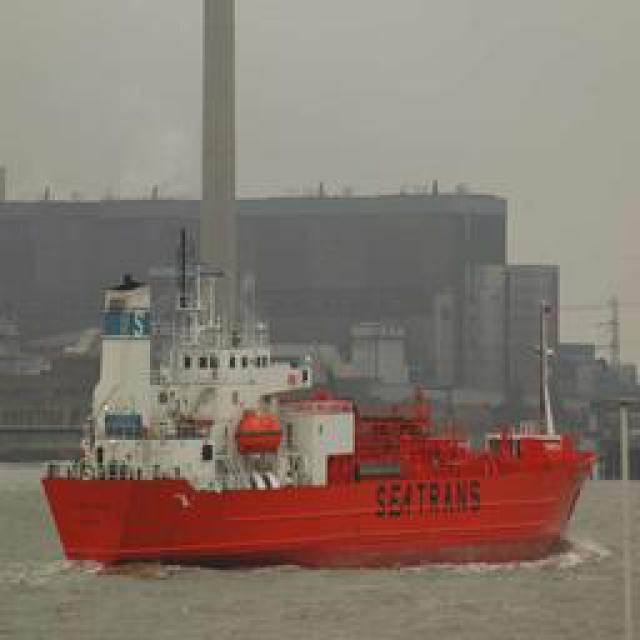Ship: (35, 260, 598, 568)
